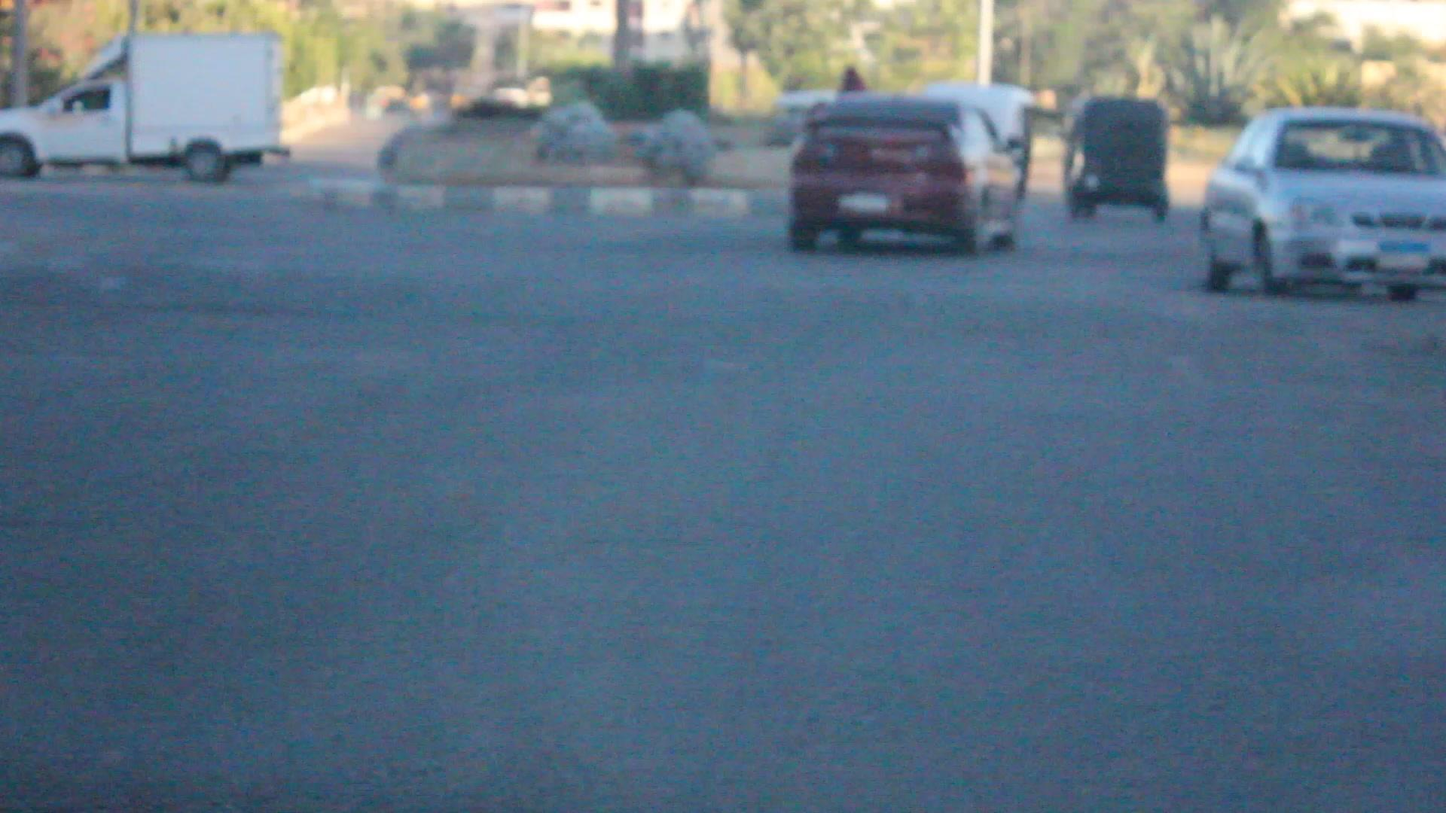Bump: (6, 256, 1446, 390)
